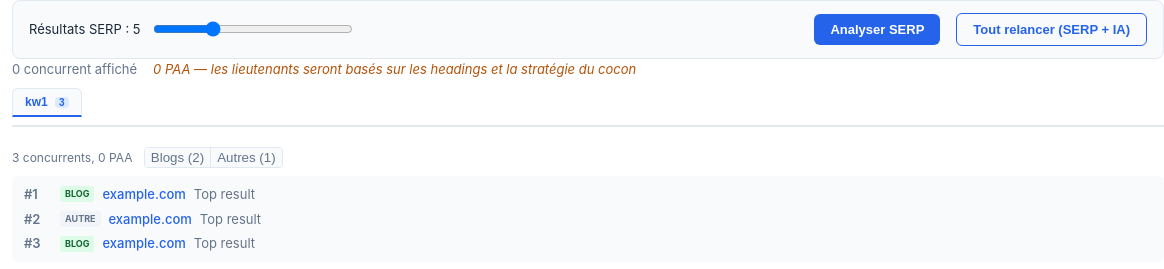
Test: LieutenantSerpAnalysis › filtre Blogs : toggle on (active) puis off (clear)
Expected: the number of elements with class "serp-url-item" is 3, top-left (24, 186), bottom-right (255, 202); top-left (24, 211), bottom-right (261, 227); top-left (24, 235), bottom-right (255, 252)
Expected: the button with class "blog-filter-btn" reads "Autres (1)", top-left (210, 148), bottom-right (282, 167)
Step 1. Click the button with class "blog-filter-btn" showing "Blogs (2)" → (177, 157), box top-left (145, 148), bottom-right (210, 167)
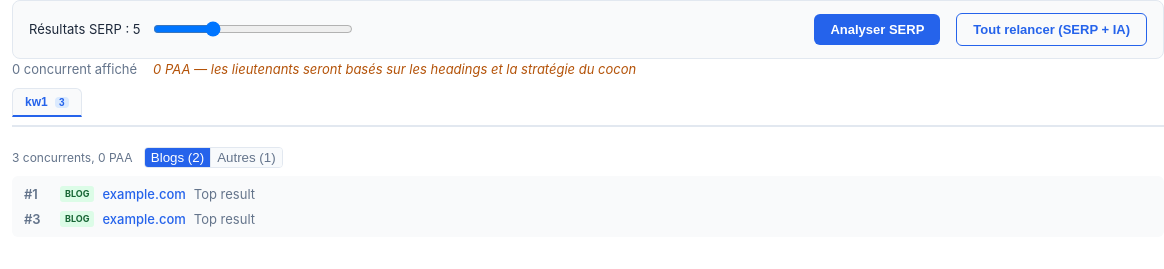
Now the number of elements with class "serp-url-item" is 2, box top-left (24, 186), bottom-right (255, 202); top-left (24, 211), bottom-right (255, 227)
Step 2. Click the button with class "blog-filter-btn" showing "Blogs (2)" → (177, 157), box top-left (145, 148), bottom-right (210, 167)
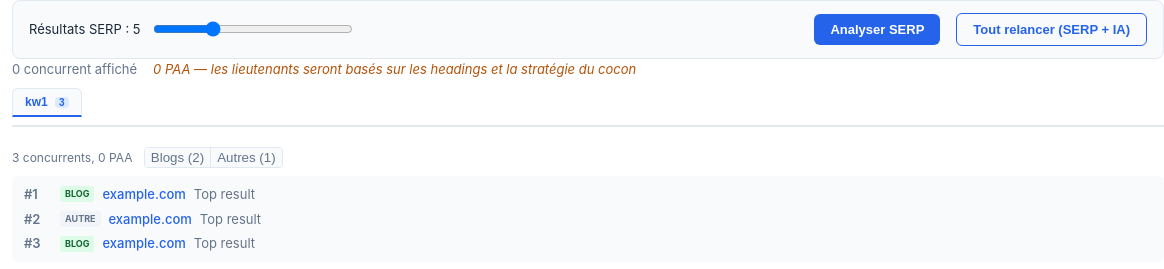
Now the number of elements with class "serp-url-item" is 3, box top-left (24, 186), bottom-right (255, 202); top-left (24, 211), bottom-right (261, 227); top-left (24, 235), bottom-right (255, 252)
